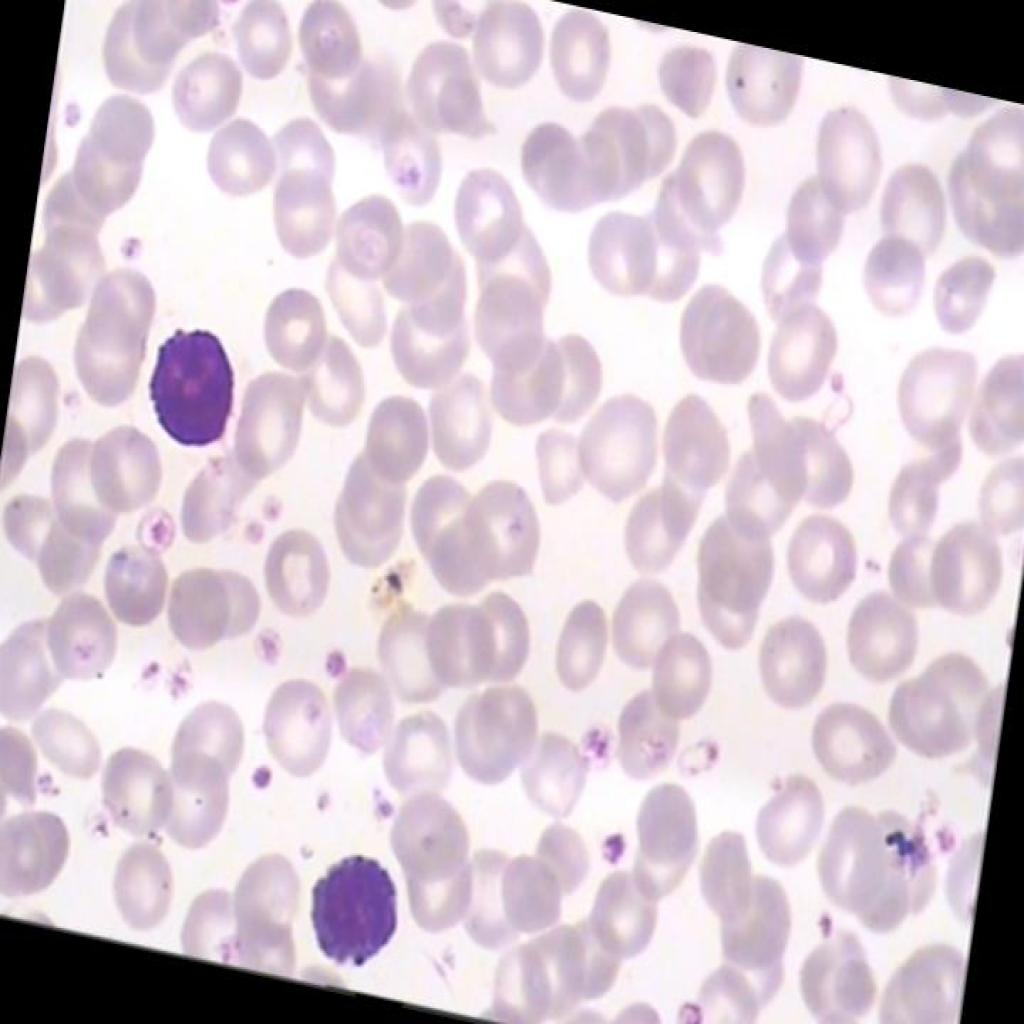Basofil: (130, 304, 260, 475), (289, 830, 414, 983)
Platelet: (111, 215, 162, 285), (309, 622, 357, 692), (245, 615, 290, 683), (356, 772, 406, 832), (246, 474, 290, 540), (572, 711, 616, 768), (243, 748, 286, 800), (47, 87, 90, 139), (593, 814, 633, 868), (158, 653, 195, 711), (923, 804, 959, 858), (125, 640, 162, 690), (233, 508, 266, 564), (140, 510, 174, 564), (805, 892, 835, 946), (304, 772, 338, 818), (200, 0, 252, 25), (666, 988, 702, 1022)
